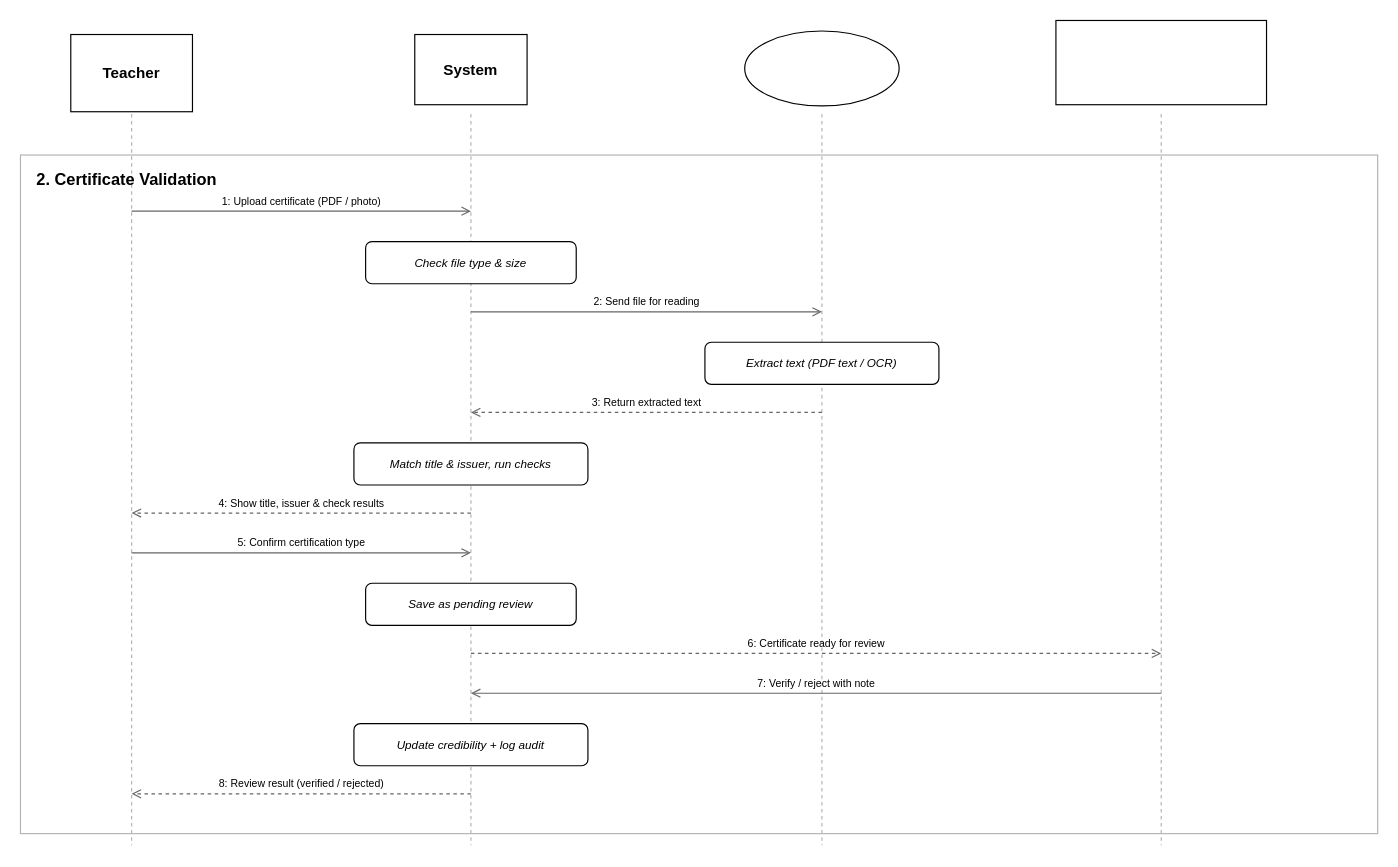
Image size: 1398x867. Some labels were removed from this diagram. Here are the shapes that lost their labels. From the top down, the centre of each, then its label:
At point 821,68: "Certificate Reader (OCR)".
At point 1161,62: "Principal / Registrar".
